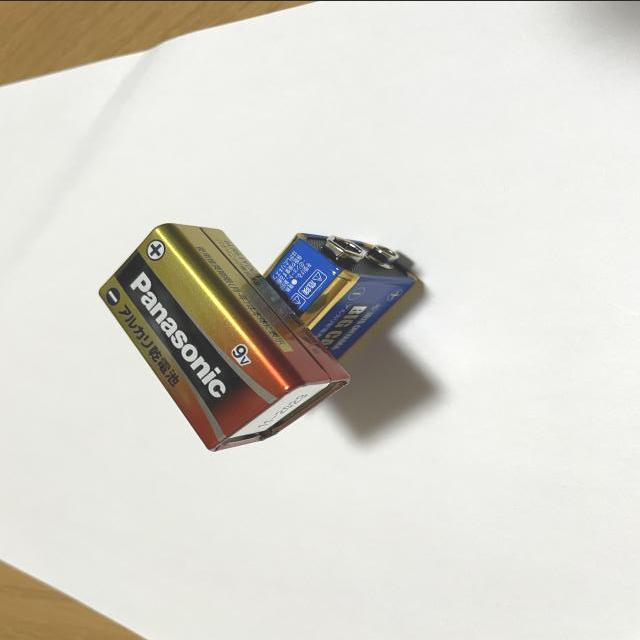9V: (97, 222, 356, 451), (261, 233, 418, 358)
